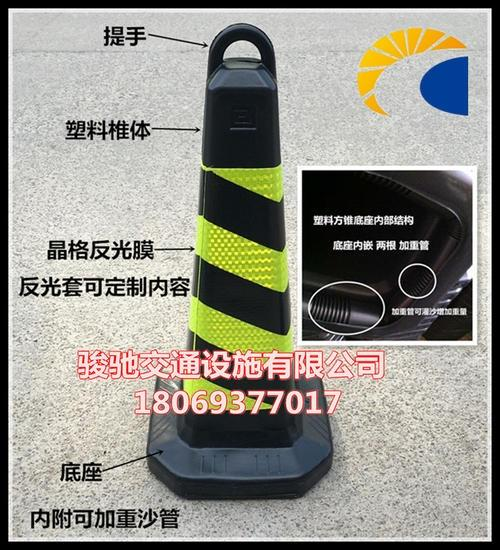cone_barrel: (157, 17, 326, 478)
